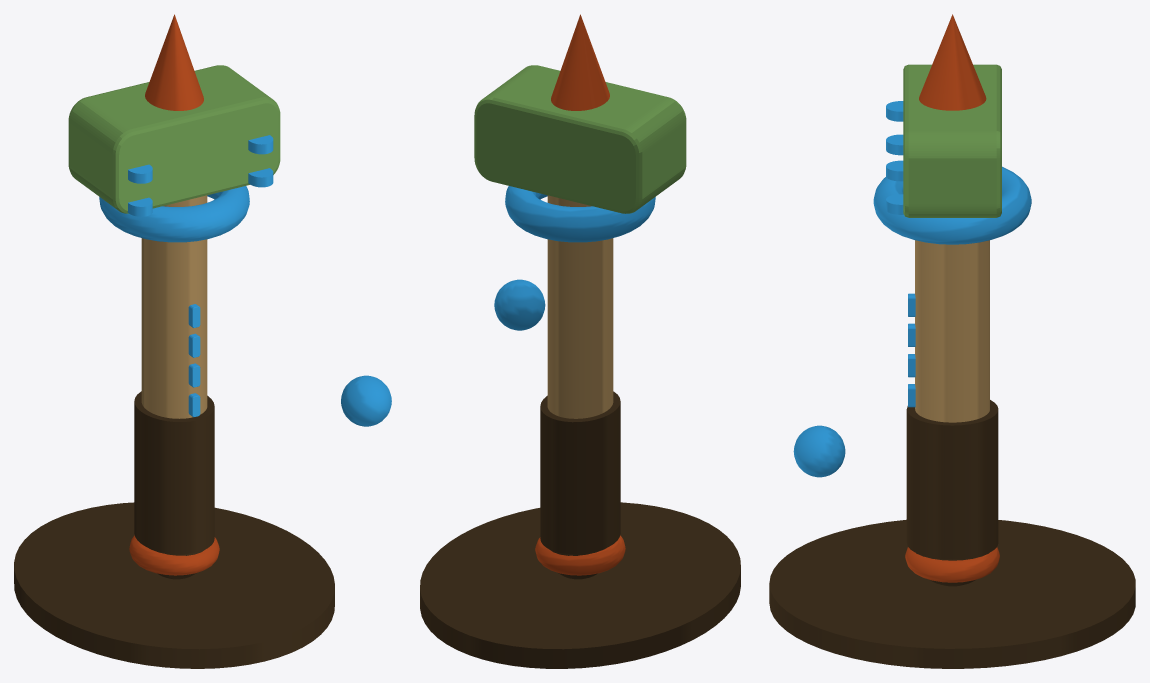
Rendered from 0936_秦汉图鉴_二级浮箭漏刻.glb.
The picture shows the model from 3 angles, left to right: view 1: azimuth 30°, elevation 25°; view 2: azimuth 150°, elevation 25°; view 3: azimuth 270°, elevation 25°; orthographic projection.
Visible parts, largest first — view 1: card_0936; view 2: card_0936; view 3: card_0936.
Part boxes in pixels (<box>): card_0936: <box>14,14,391,668</box>; card_0936: <box>420,14,740,668</box>; card_0936: <box>769,14,1135,668</box>.
Bounding box in the file's own units: 0.5058 × 1 × 0.5631.
